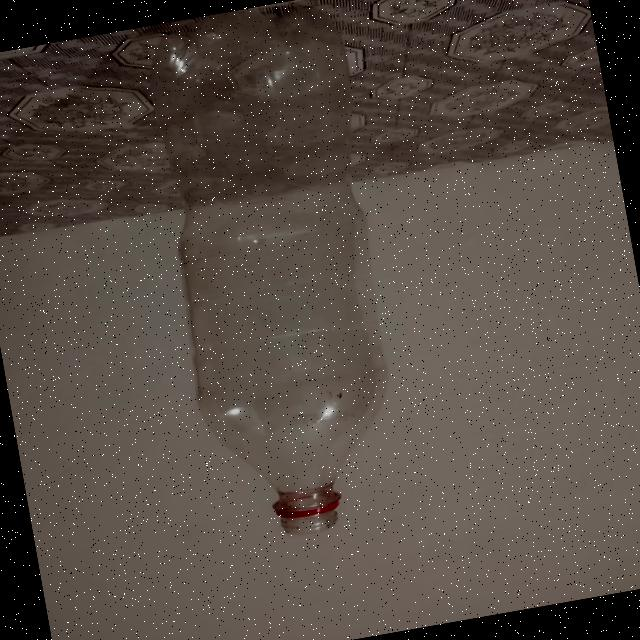bottle: (127, 0, 431, 556)
